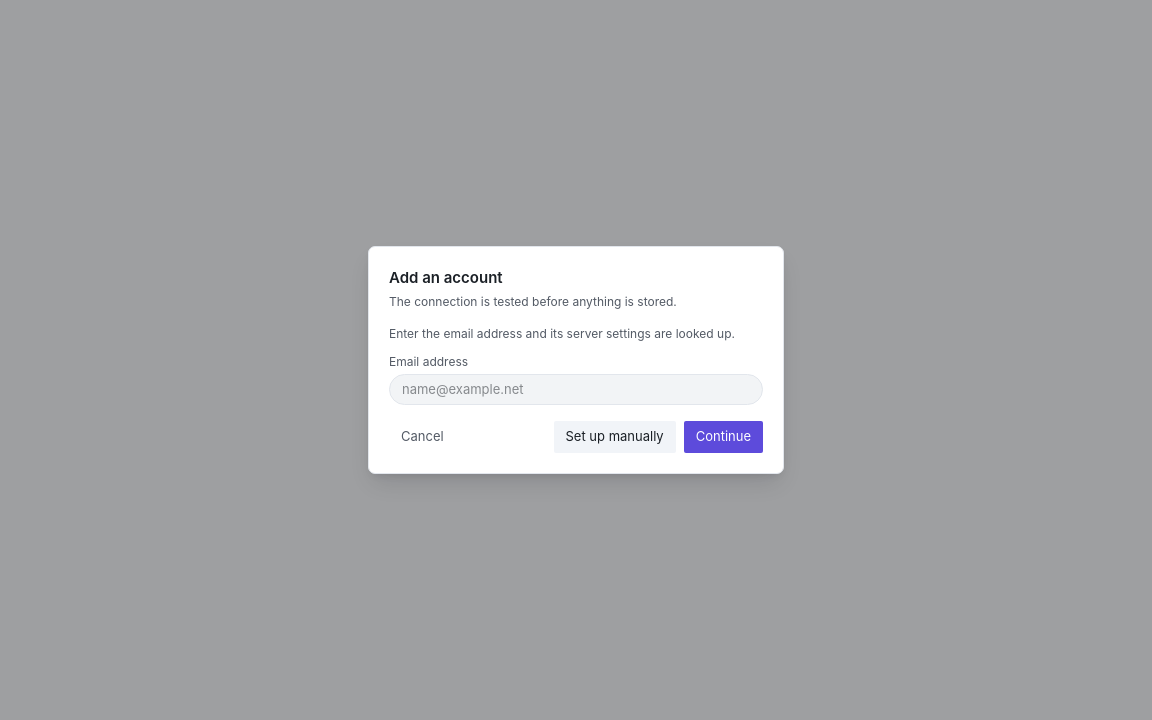
Test: the account discovery step › falls back to the manual form with a note when detection fails
The image size is (1152, 720).
Type "user@example.test" into the field labelled "Email address" at point(576, 389), box [389,374,763,405]
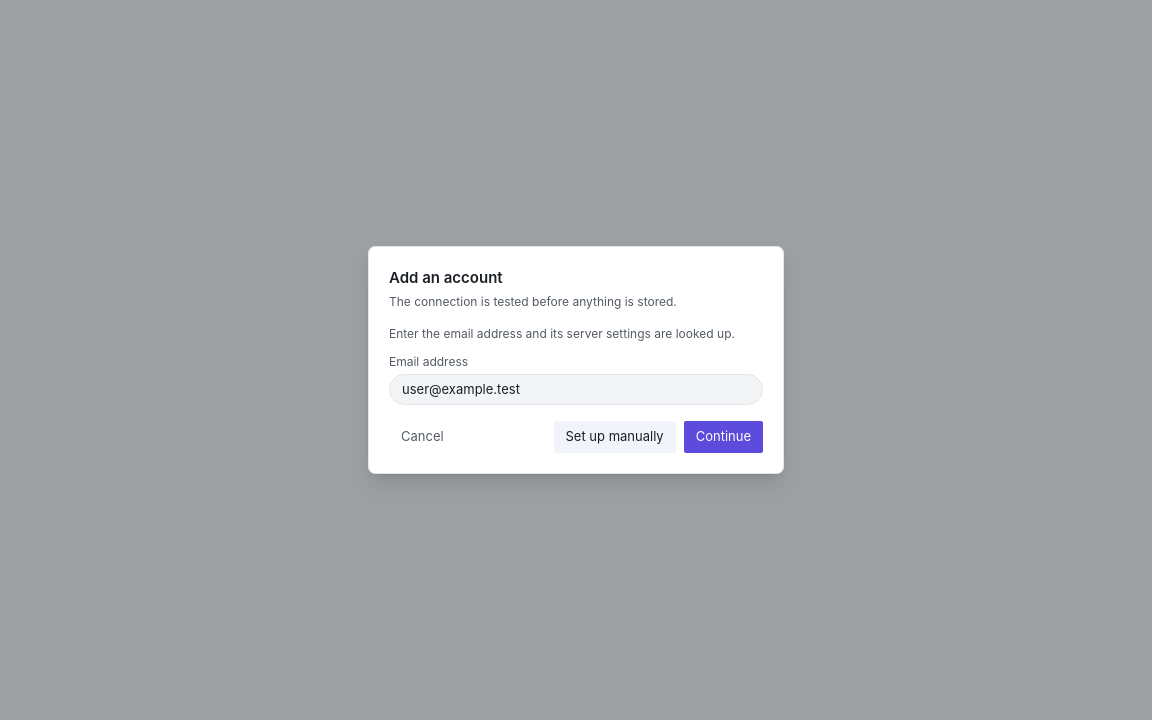
Click the button "Continue" at point(723, 437), box [684,421,763,453]
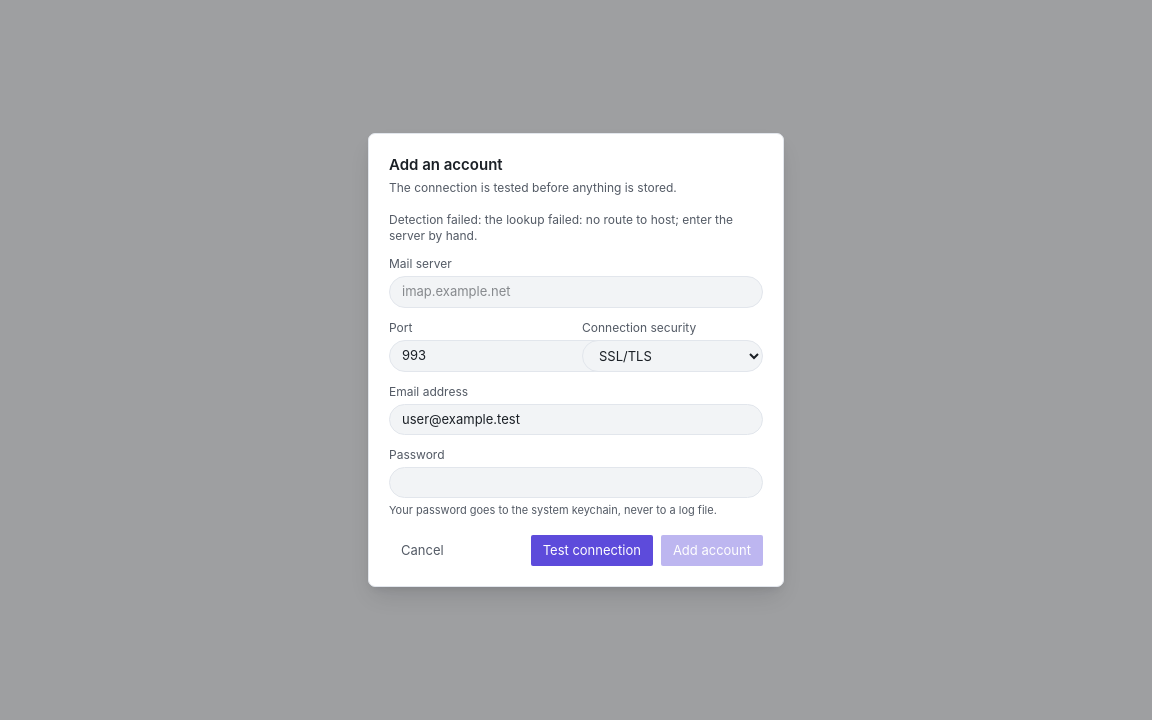
Check: the text "Detection failed: the lookup failed: no route to host; enter the server by hand." is shown, box [389,212,763,244]
Check: the field labelled "Mail server" is empty, box [389,276,763,308]
